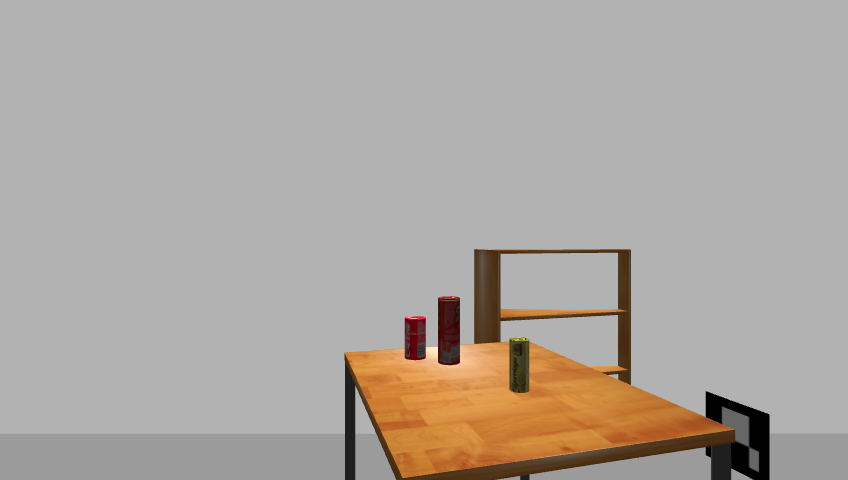aruco marker: (699, 390, 776, 480)
biscuits pack: (508, 337, 530, 395)
bookshelf: (469, 245, 638, 401)
coke can: (402, 316, 428, 362)
dinner table: (338, 340, 740, 480)
pringles can: (435, 295, 463, 367)
